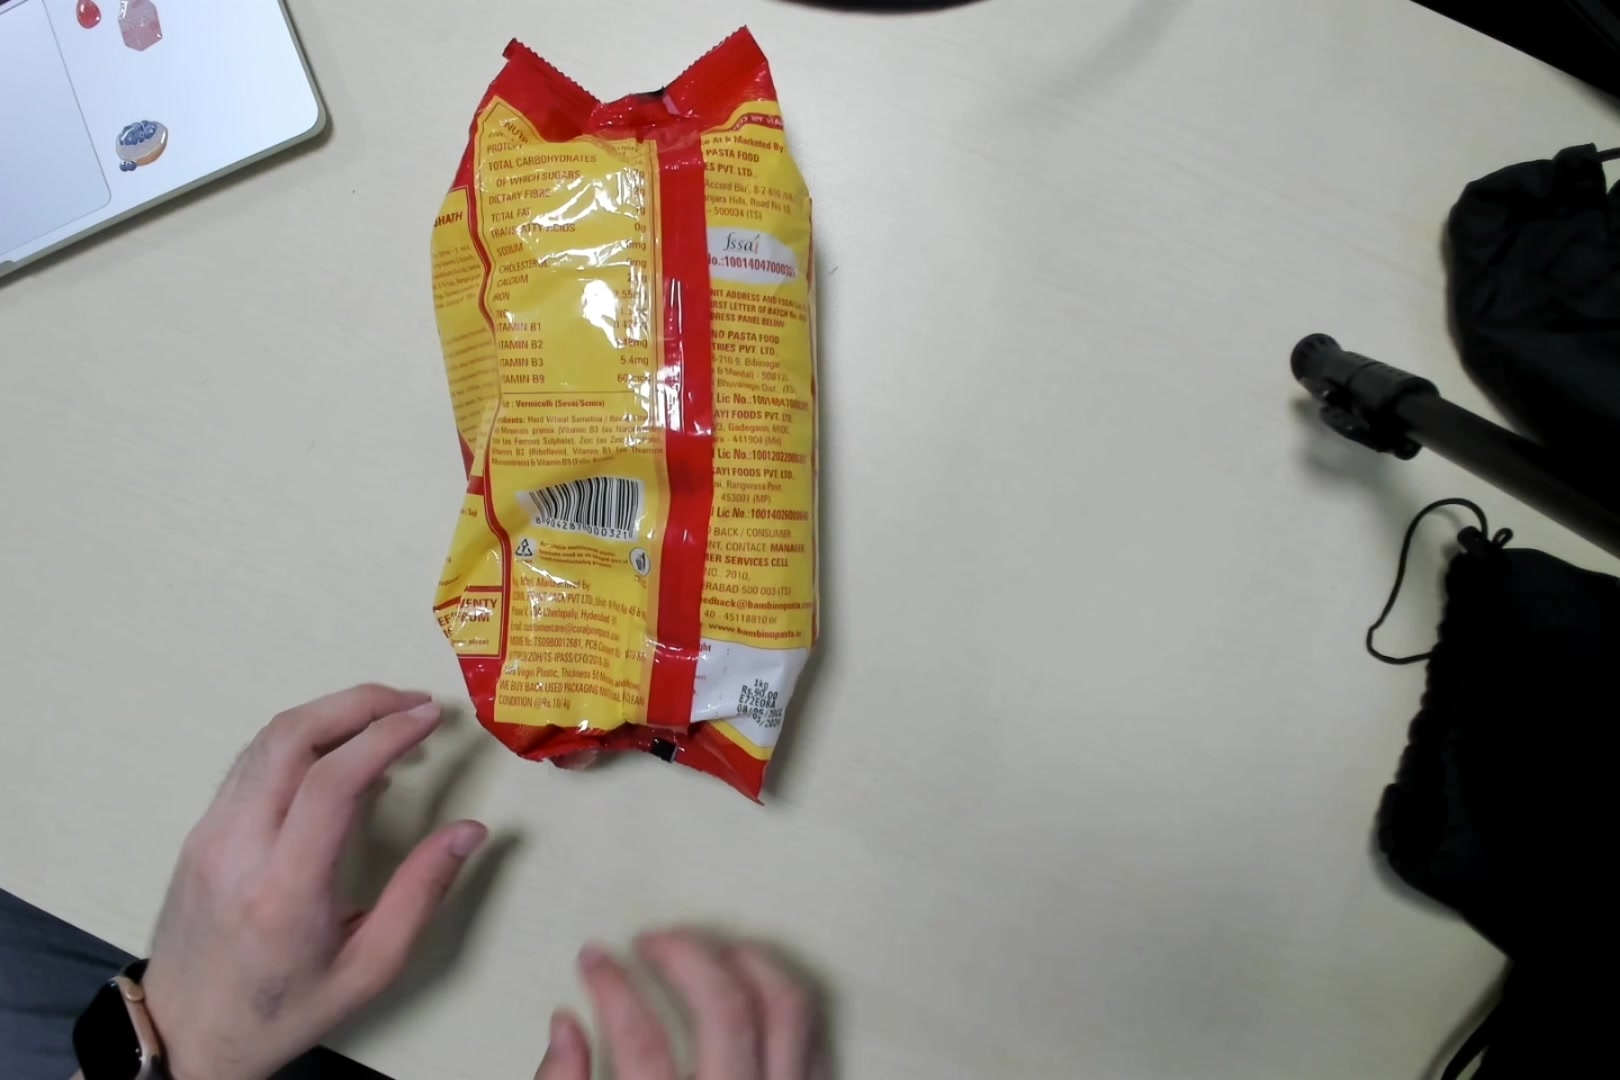OtherNoodles_300-399g_Halal_NonHealthy: (425, 43, 821, 765)
